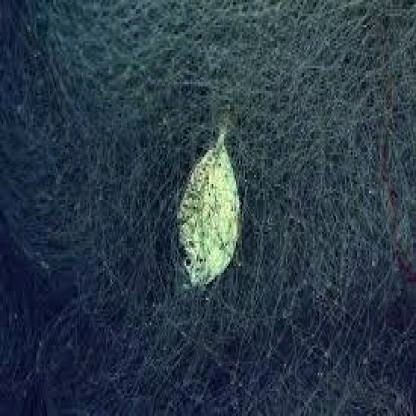net: (18, 12, 412, 402)
